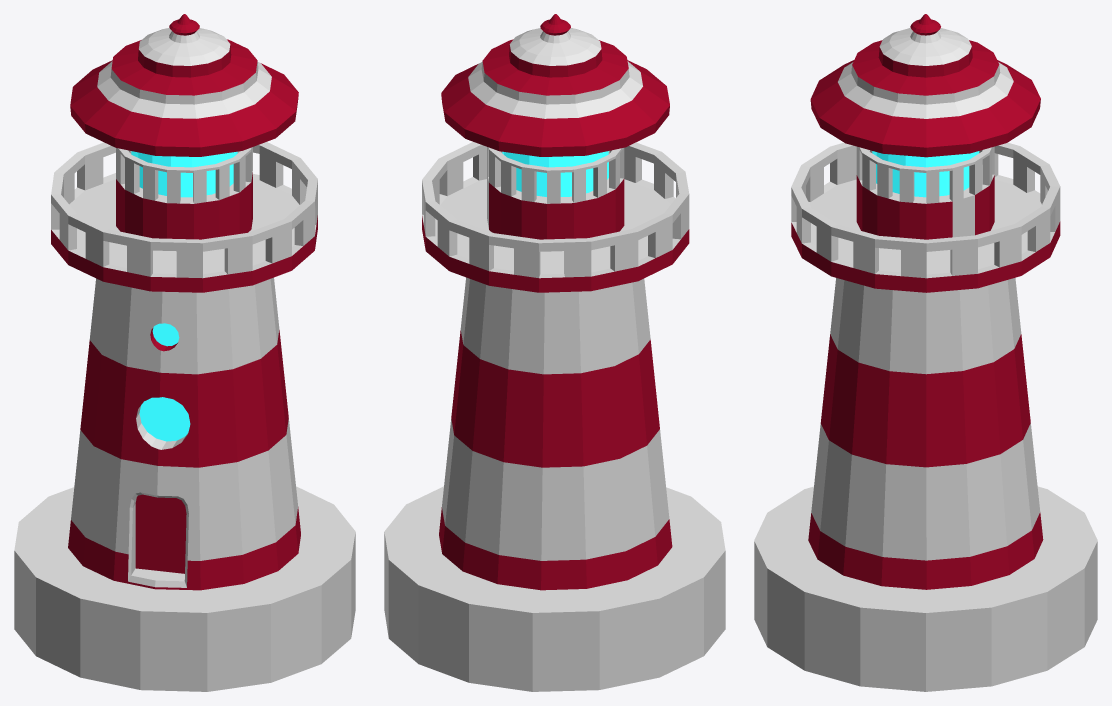
The model's file is lighthouse with light.fbx.
3 renders of one model, left to right at view 1: azimuth 30°, elevation 25°; view 2: azimuth 150°, elevation 25°; view 3: azimuth 270°, elevation 25°, orthographic.
Visible parts, largest first — view 1: Circle.001, Circle.127; view 2: Circle.001, Circle.127; view 3: Circle.001, Circle.127.
Boxes of the visible parts, left/top/right/bottom form: Circle.001: left=51, top=14, right=317, bottom=590; Circle.127: left=14, top=486, right=355, bottom=691; Circle.001: left=422, top=14, right=689, bottom=590; Circle.127: left=384, top=486, right=725, bottom=691; Circle.001: left=791, top=14, right=1060, bottom=589; Circle.127: left=754, top=486, right=1097, bottom=691.
Bounding box in the file's own units: 2567 × 4983 × 2567.
